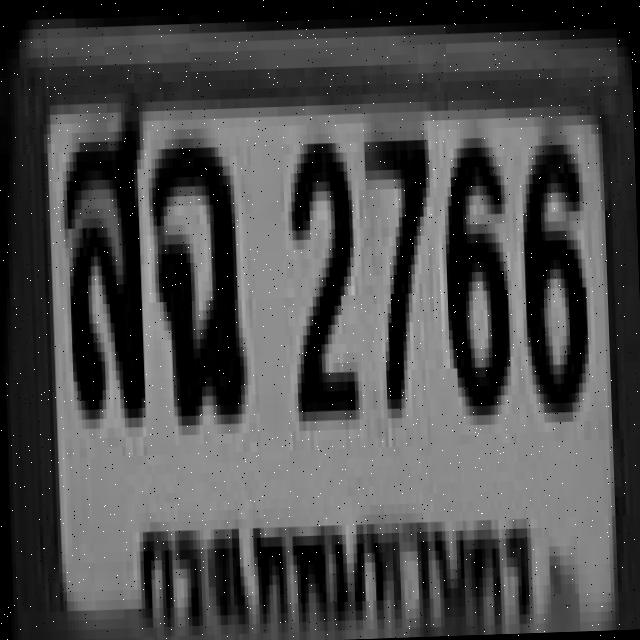18ChorChing: (148, 128, 248, 433)
2: (285, 132, 361, 426)
49SorSuea: (58, 110, 151, 428)
6: (516, 134, 594, 416), (439, 134, 512, 418)
7: (360, 125, 438, 416)
Bangkok: (127, 469, 541, 640)
